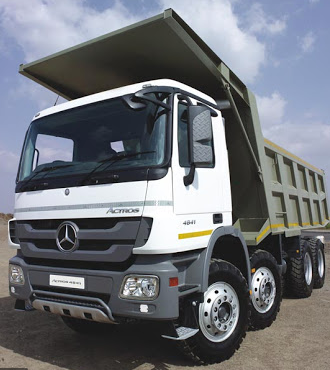truck: (6, 5, 330, 365)
